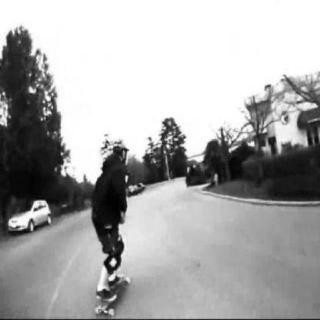other: (74, 271, 152, 313), (125, 182, 149, 202)
